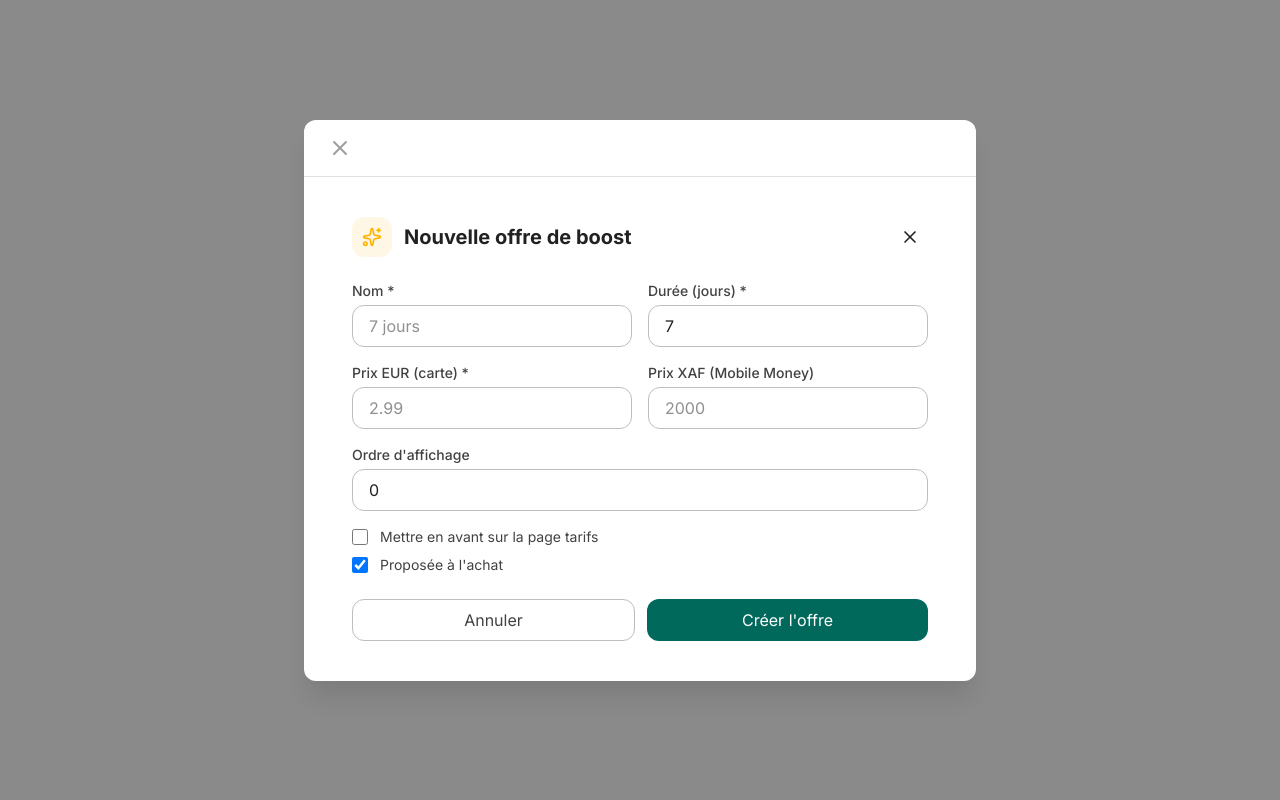
Test: BoostOfferFormModal - logique metier › rejette une duree negative
The width and height of the screenshot is (1280, 800).
Type "15 jours" into the field with placeholder "7 jours".
click(492, 326); type("15 jours")  # box [352,304,632,346]
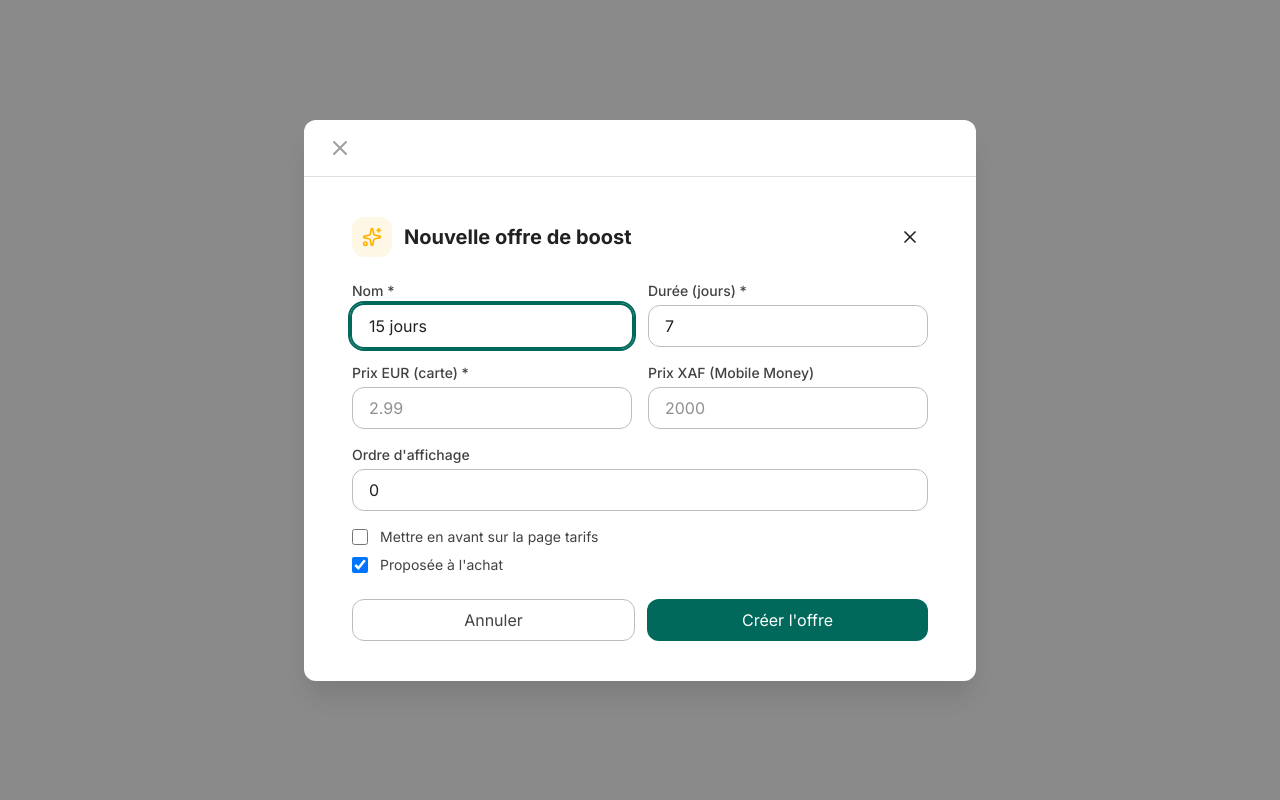
Replace the text in the number field labelled "Durée (jours) *" with "-5" at (788, 326), box [648,304,928,346]
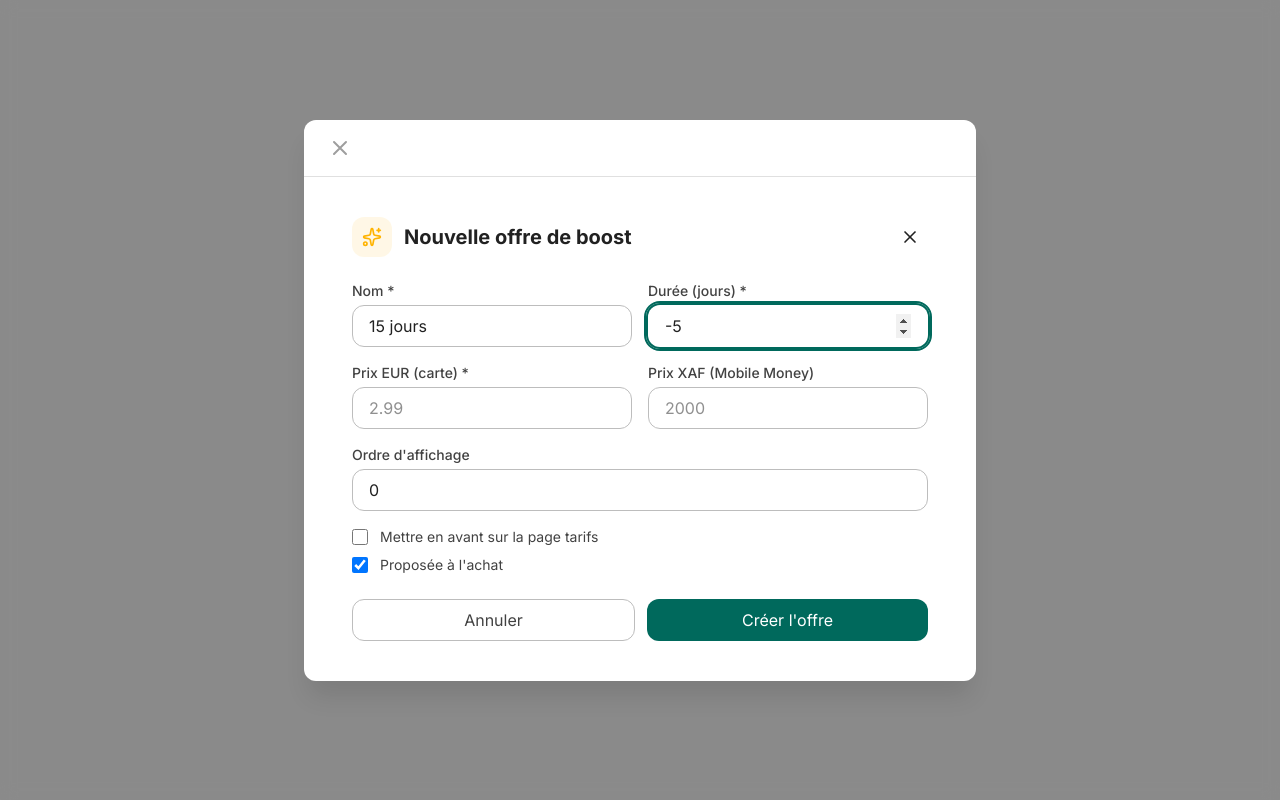
Type "4.99" into the field with placeholder "2.99".
click(492, 408); type("4.99")  # box [352,386,632,428]
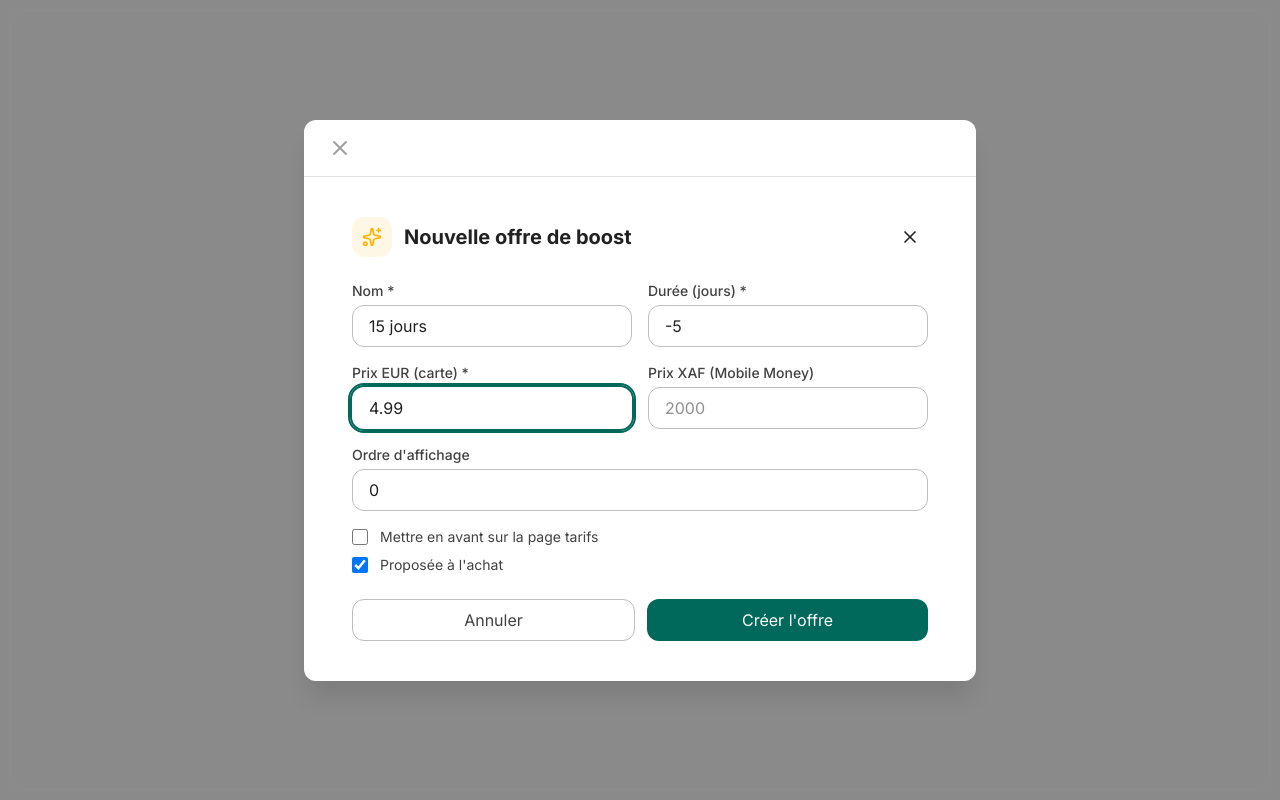
Click the button "Créer l'offre".
click(788, 620)  # box [647,598,928,640]
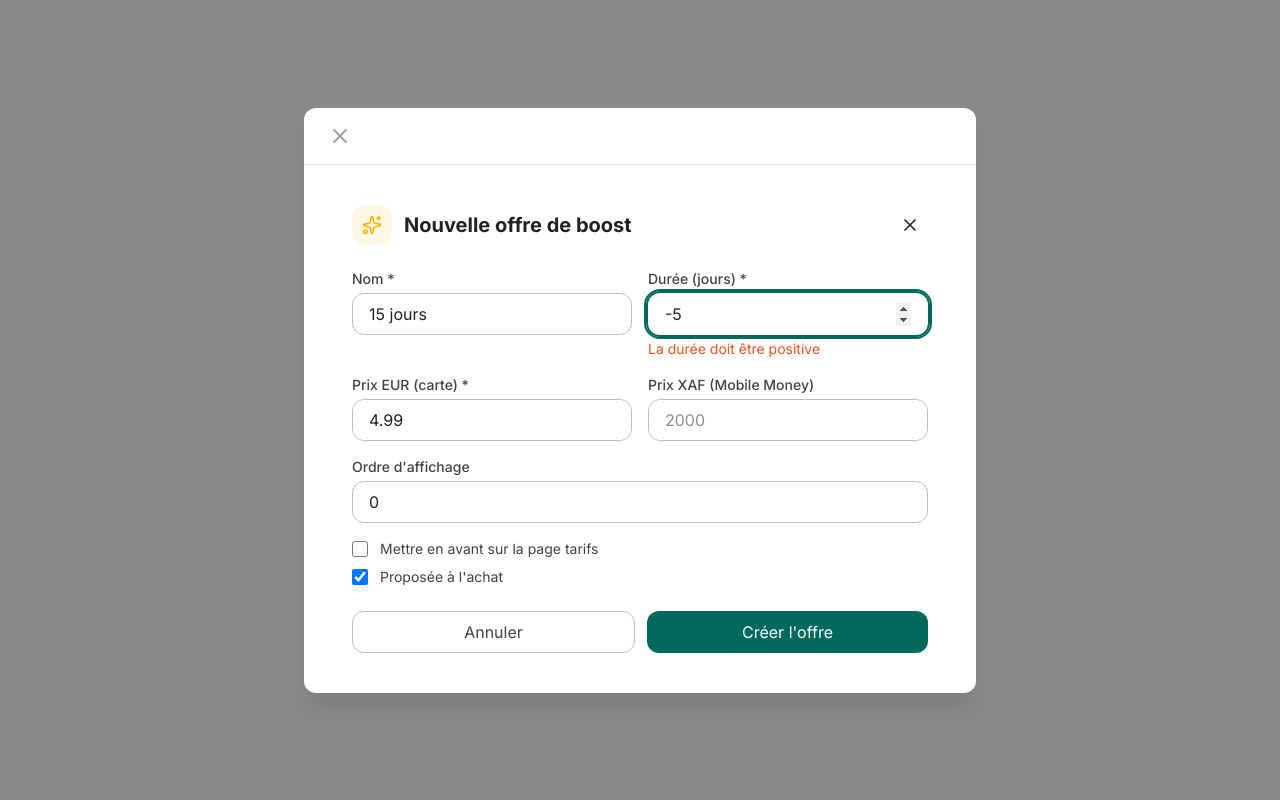
expect the text "La durée doit être positive" is shown: met, box [648,340,820,356]
